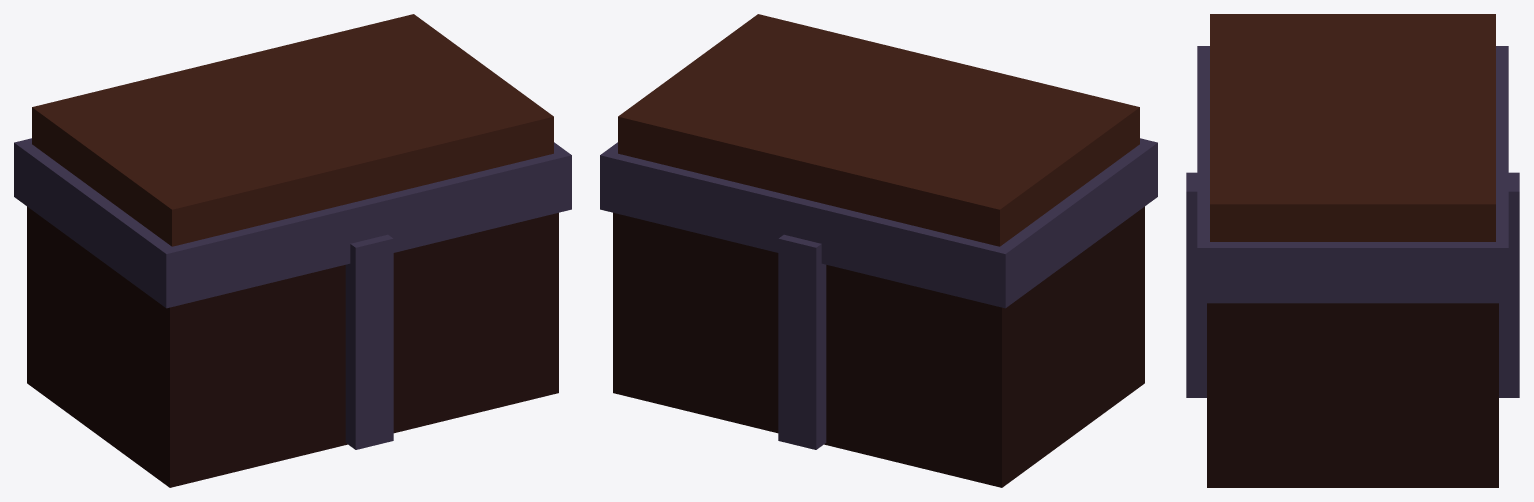
The model's file is relic_chest.obj.
The picture shows the model from 3 angles, left to right: view 1: azimuth 30°, elevation 25°; view 2: azimuth 150°, elevation 25°; view 3: azimuth 270°, elevation 25°; orthographic projection. The views are drawn at different scales.
Visible parts, largest first — view 1: RelicChest; view 2: RelicChest; view 3: RelicChest.
Part boxes in pixels (x1=…): RelicChest: x1=14, y1=14, x2=571, y2=487; RelicChest: x1=600, y1=14, x2=1157, y2=487; RelicChest: x1=1186, y1=14, x2=1519, y2=487.
Bounding box in the file's own units: 1.72 × 1.12 × 1.2.
